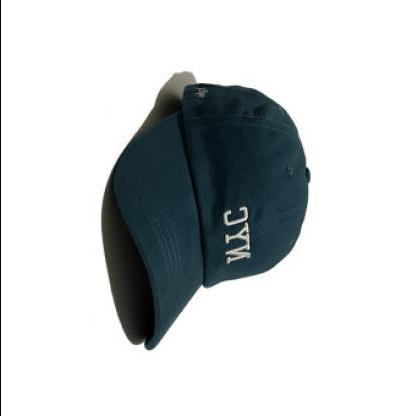cap: (104, 74, 317, 362)
